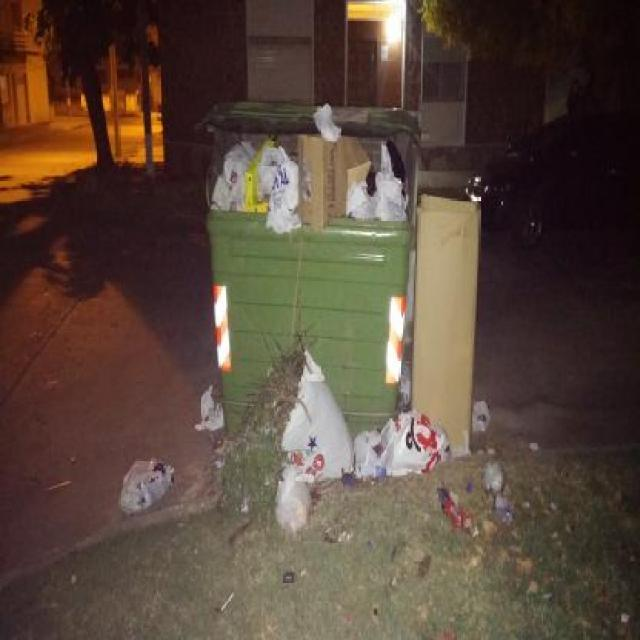garbage: (348, 391, 454, 486), (214, 128, 300, 225), (109, 446, 180, 524), (353, 148, 402, 238)
